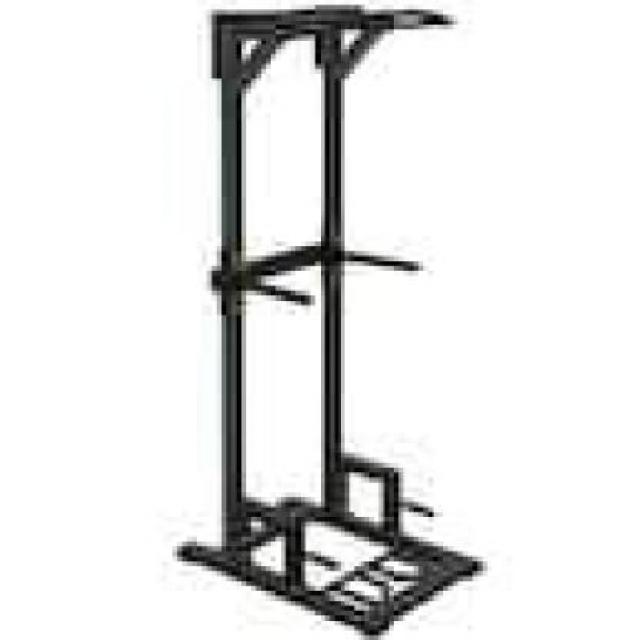chinning dipping: (177, 5, 485, 637)
